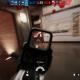Friend_label: (1, 42, 5, 45)
